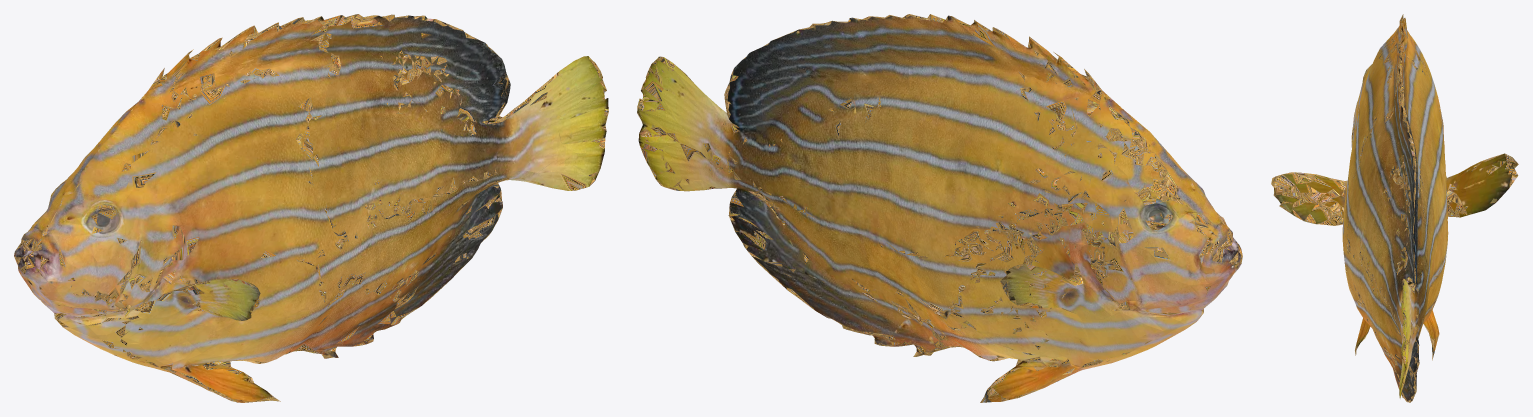
File: angelfish.glb
3 renders of one model, left to right at view 1: azimuth 30°, elevation 25°; view 2: azimuth 150°, elevation 25°; view 3: azimuth 270°, elevation 25°, orthographic. The views are drawn at different scales.
Visible parts, largest first — view 1: Object_6; view 2: Object_6; view 3: Object_6.
Part boxes in pixels (x1,y1,x2,y2): Object_6: (14, 14, 608, 402); Object_6: (637, 14, 1242, 402); Object_6: (1271, 14, 1518, 402).
Bounding box in the file's own units: 1 × 0.582 × 0.4001.
Materials: 1 (1 with a texture image).
